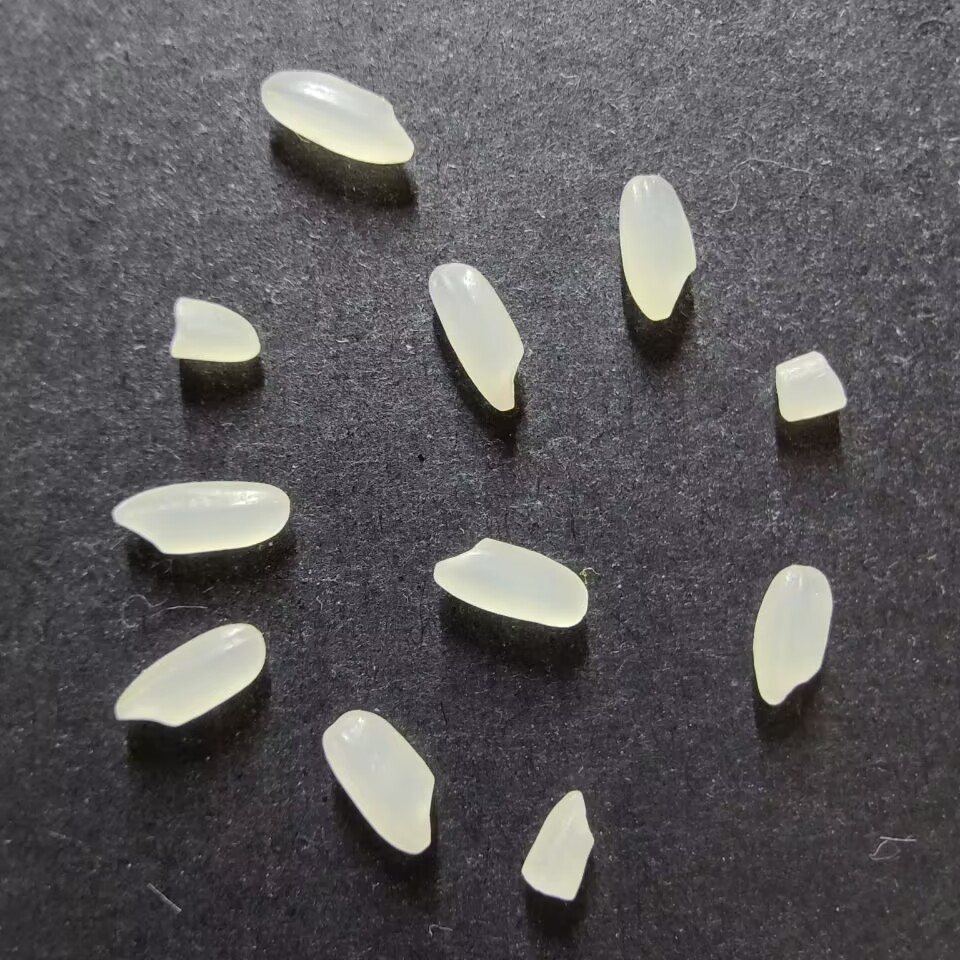broken: (520, 789, 595, 901), (170, 296, 261, 363), (773, 351, 847, 422)
rice: (321, 708, 435, 855), (114, 621, 265, 727), (260, 69, 414, 165), (427, 262, 523, 411), (432, 537, 588, 628), (111, 480, 289, 554), (617, 173, 697, 321), (751, 564, 831, 706)
